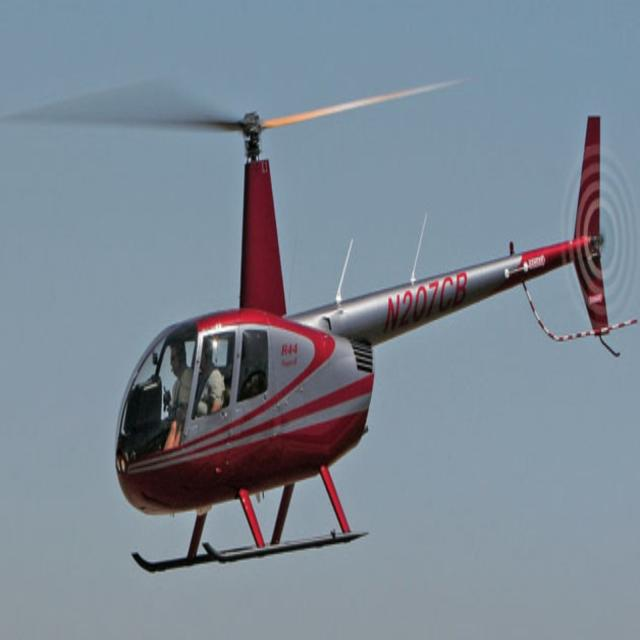CIV_HELO: (114, 108, 616, 580)
